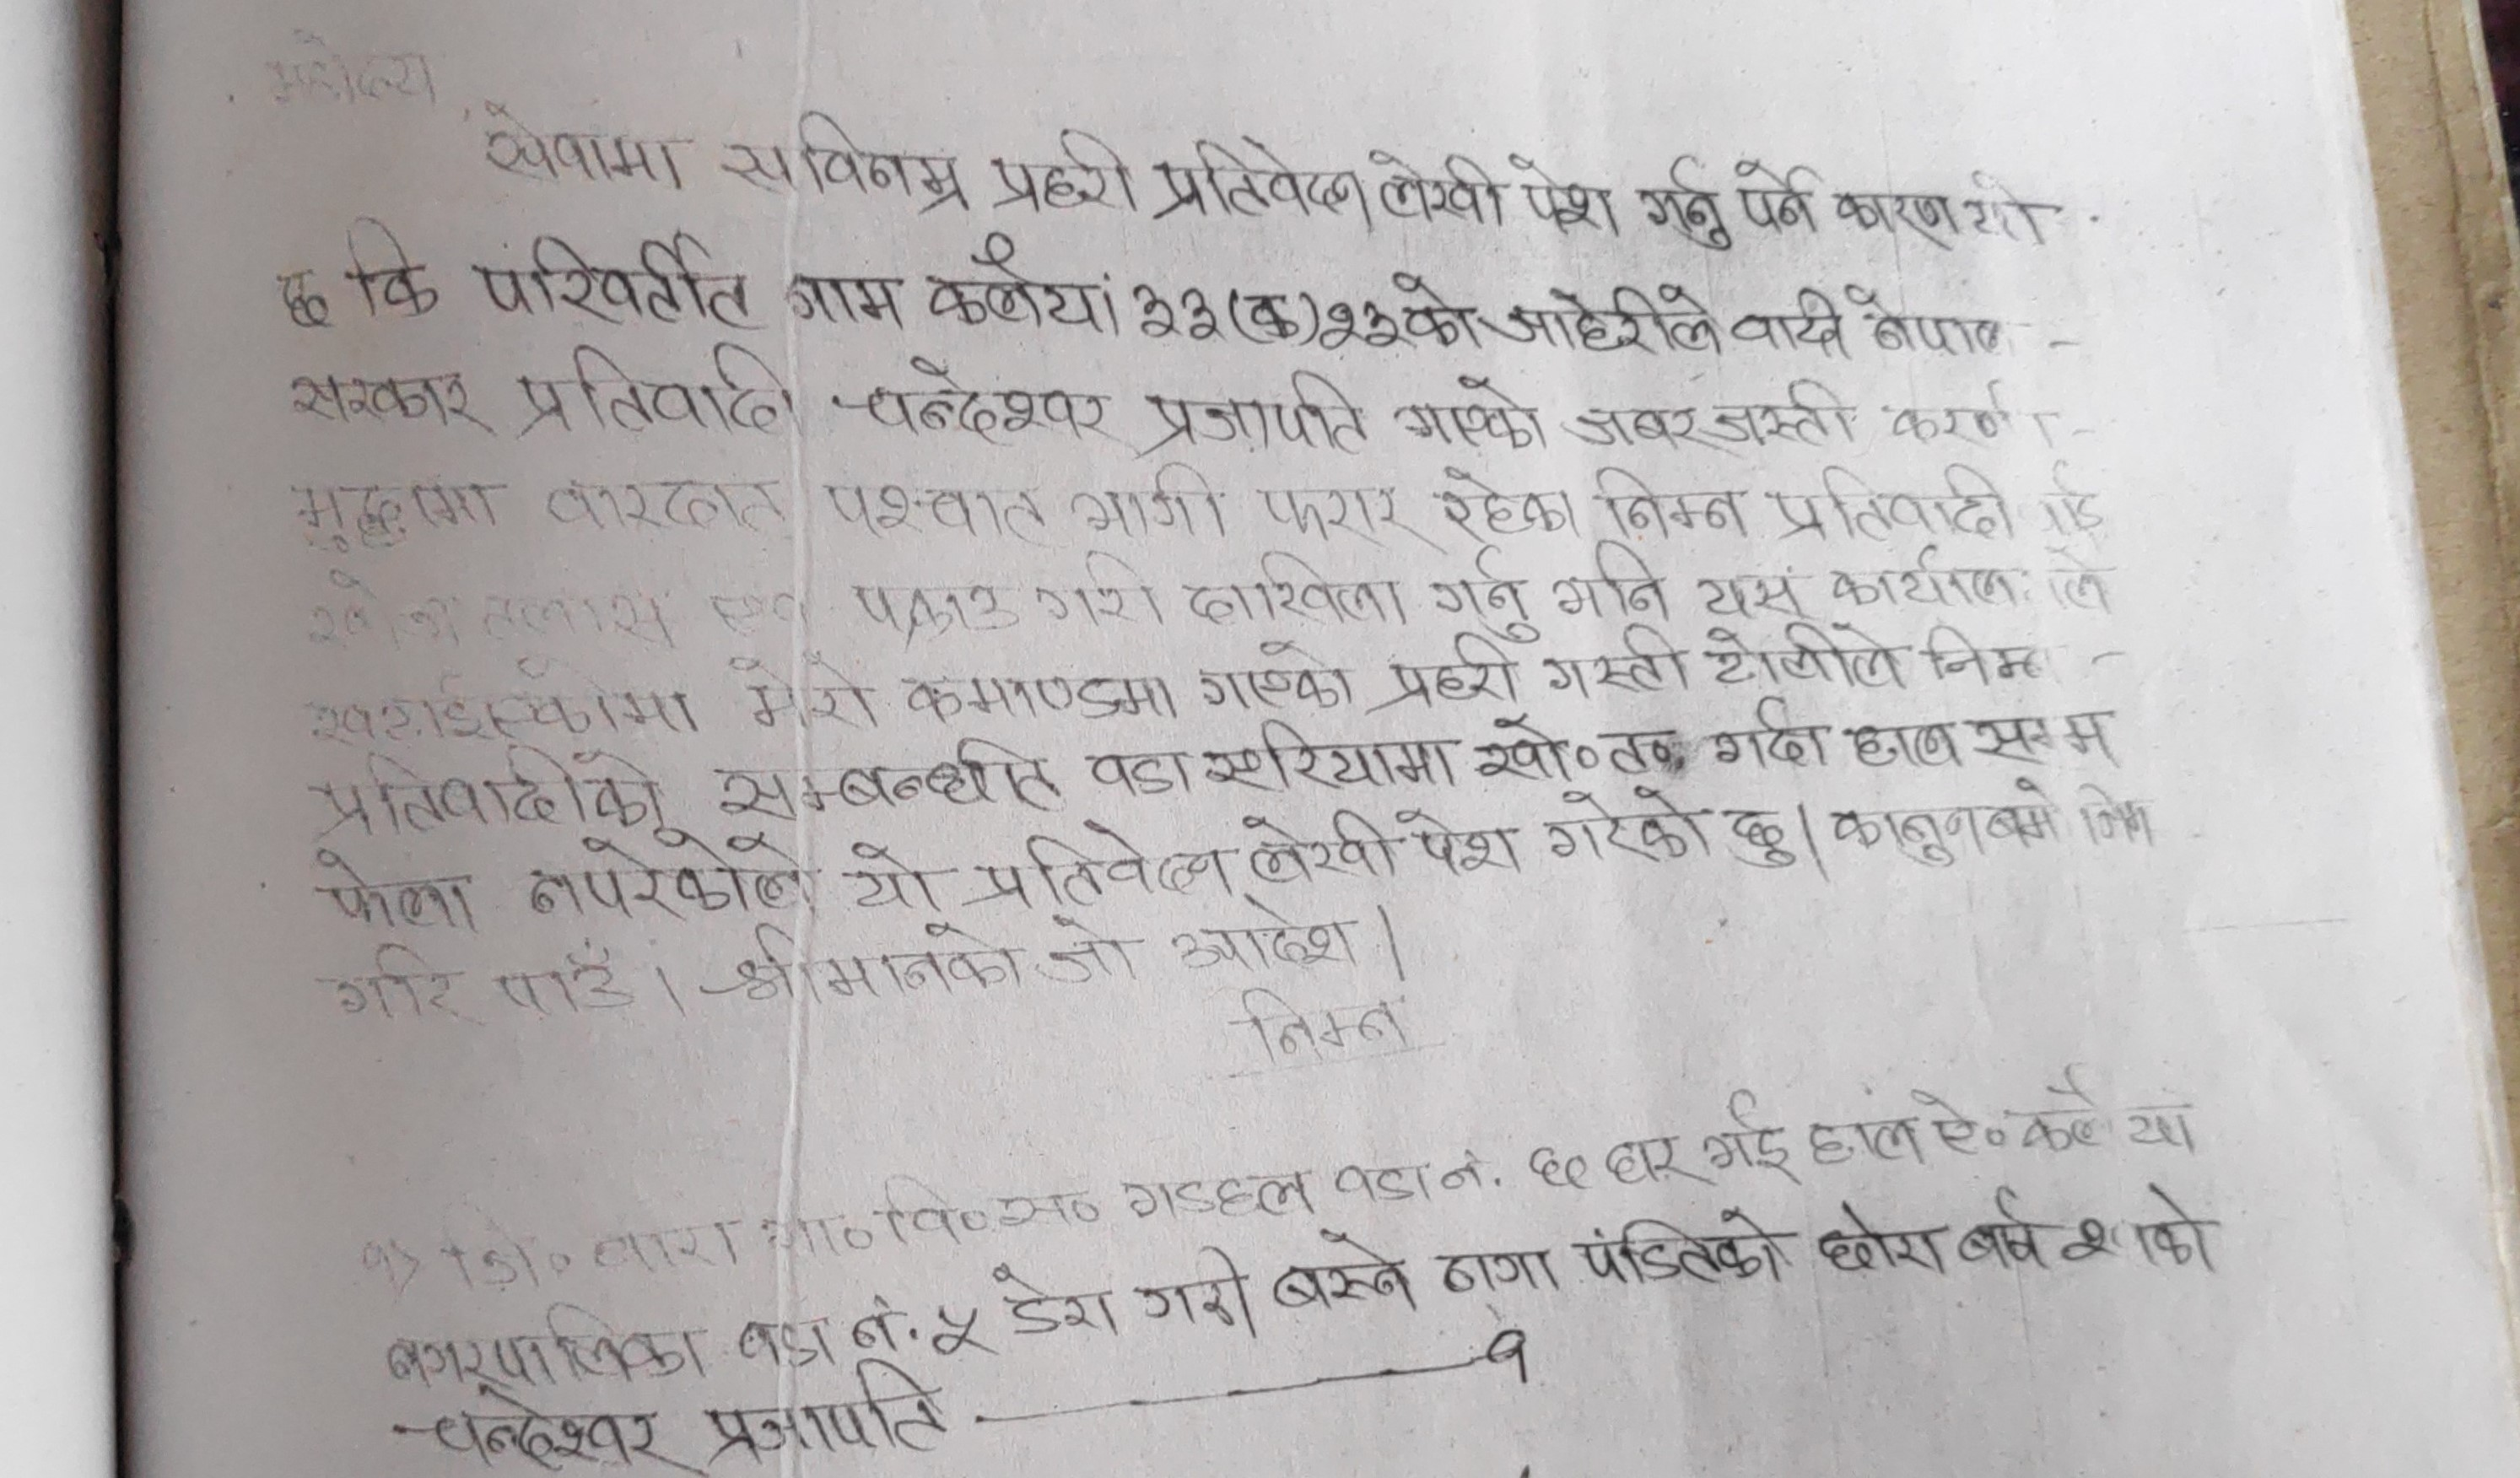text: (311, 741, 670, 841), (373, 1300, 714, 1395), (473, 227, 764, 338), (707, 739, 1072, 825), (516, 345, 809, 447), (831, 350, 1110, 454), (709, 926, 1022, 1017), (720, 109, 973, 222), (523, 834, 820, 924), (394, 1388, 678, 1478), (970, 818, 1235, 911), (1140, 361, 1373, 465), (1151, 130, 1374, 238), (702, 1372, 963, 1464), (924, 230, 1128, 345), (1827, 776, 2064, 873), (472, 99, 697, 199), (1772, 461, 2015, 549), (1177, 549, 1413, 633), (1197, 718, 1459, 794), (1496, 278, 1719, 362), (1582, 1209, 1795, 1295), (538, 472, 799, 542), (820, 479, 1061, 552), (896, 662, 1172, 725), (1455, 711, 1682, 785), (1165, 904, 1369, 985), (285, 479, 500, 554), (2064, 1181, 2212, 1288), (1536, 781, 1711, 871), (1265, 1230, 1420, 1330), (311, 855, 486, 941), (1234, 984, 1404, 1070), (1700, 623, 1906, 693), (1844, 282, 2020, 362), (1820, 547, 2020, 618), (1070, 461, 1241, 542), (1367, 139, 1510, 236), (718, 648, 880, 732), (278, 368, 493, 431), (987, 127, 1139, 216), (1879, 378, 2059, 452), (1241, 799, 1396, 883), (1195, 637, 1362, 714), (1703, 371, 1860, 452), (1320, 276, 1483, 354), (1373, 633, 1526, 716), (1503, 144, 1626, 246), (1392, 377, 1550, 456), (1427, 547, 1554, 646), (1587, 461, 1753, 533), (1427, 463, 1580, 540), (1251, 479, 1427, 545), (1035, 552, 1172, 637), (850, 574, 1015, 642), (1394, 799, 1527, 883), (832, 832, 963, 917), (338, 215, 440, 322), (1813, 1200, 1950, 1279), (1542, 630, 1691, 700), (1712, 695, 1834, 781), (1133, 1248, 1253, 1334), (1638, 151, 1737, 255), (1550, 545, 1675, 626), (985, 1269, 1126, 1339), (1969, 707, 2128, 769), (1695, 1086, 1797, 1179), (1918, 626, 2064, 691), (1728, 283, 1850, 361), (1798, 1112, 1929, 1184), (1823, 183, 1959, 246), (1035, 915, 1140, 996), (778, 266, 903, 333), (1559, 399, 1703, 456), (1953, 1181, 2041, 1272), (1436, 1242, 1559, 1307), (1733, 158, 1823, 243), (725, 1314, 838, 1381), (1960, 165, 2045, 250), (1081, 746, 1193, 808), (1846, 718, 1964, 776), (1689, 565, 1806, 623), (1124, 278, 1220, 347), (1723, 801, 1798, 880), (269, 260, 333, 338), (1241, 283, 1308, 348)
